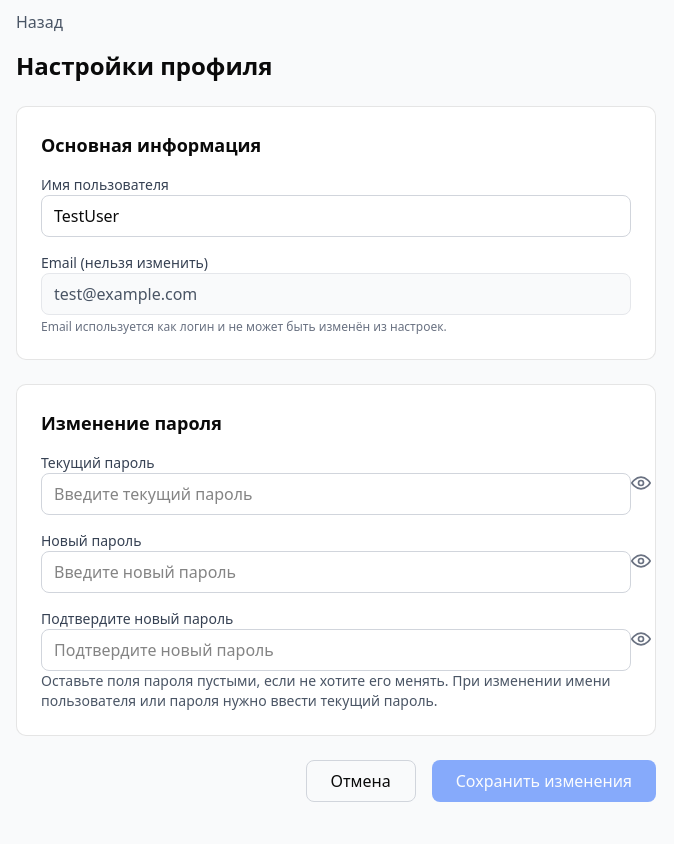
SimpleSettingsPage › валидация: пароль › новый пароль короче 6 символов — «Новый пароль должен быть не менее 6 символов»
Type "oldpass" into the password field labelled "Текущий пароль" at (336, 494), box [41,473,631,515]
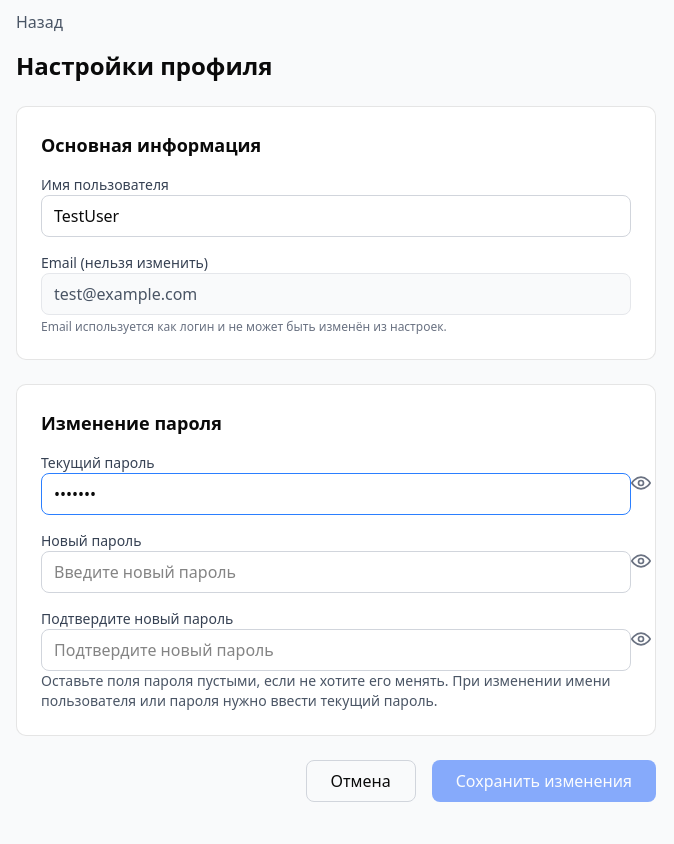
Type "12345" into the password field labelled "Новый пароль" at (336, 572), box [41,551,631,593]
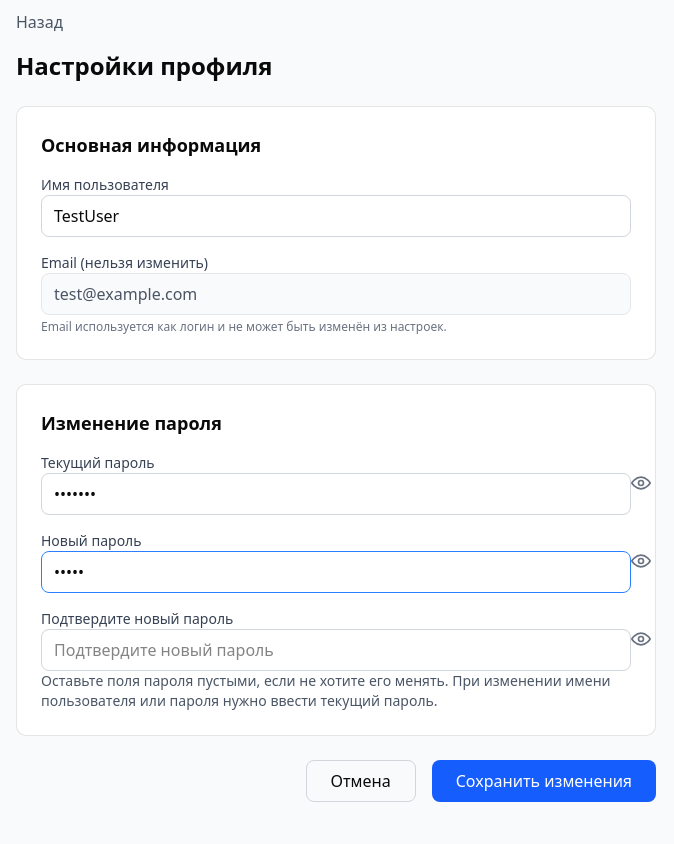
Type "12345" into the password field labelled "Подтвердите новый пароль" at (336, 650), box [41,629,631,671]
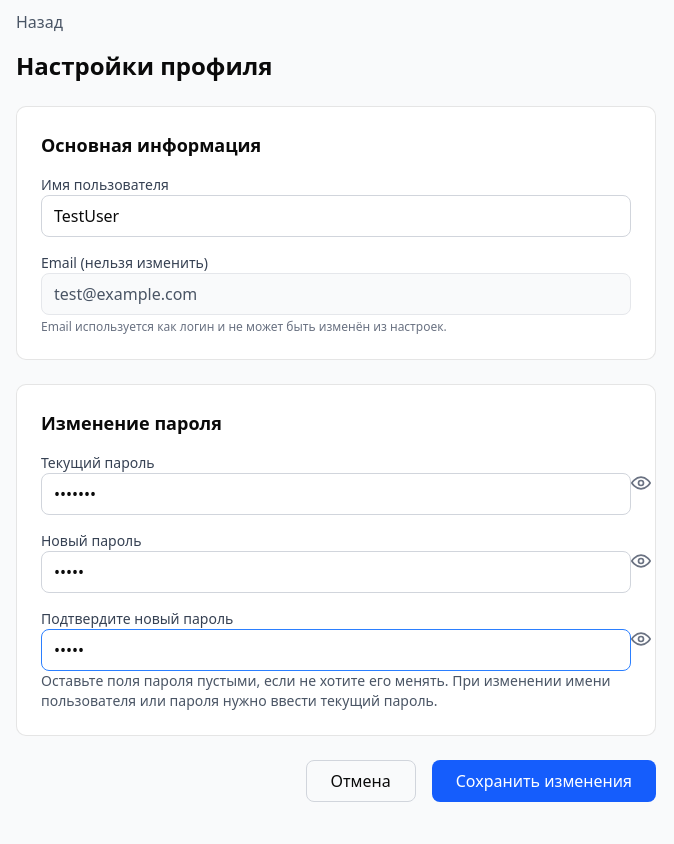
Click the button "Сохранить изменения" at (544, 781), box [432,760,656,802]
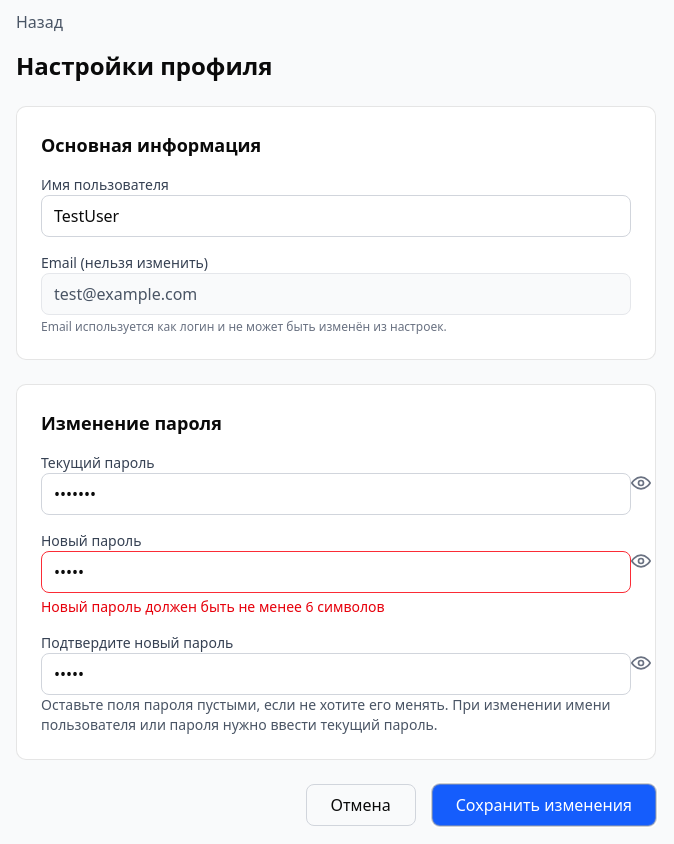
Expected: the text "Новый пароль должен быть не менее 6 символов" is shown, [41,597,384,616]
